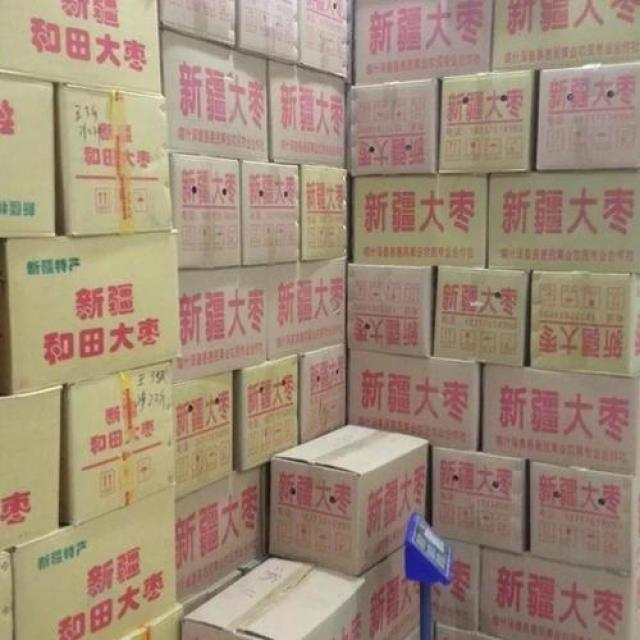box: (0, 232, 184, 397), (267, 417, 429, 575), (20, 488, 176, 639), (474, 352, 640, 476), (49, 85, 179, 242), (57, 354, 175, 526), (0, 0, 169, 97), (484, 169, 640, 274), (478, 540, 640, 640), (343, 343, 477, 460), (160, 34, 273, 170), (347, 163, 485, 274), (191, 554, 368, 640), (522, 453, 640, 575), (529, 258, 640, 386), (177, 248, 272, 385), (354, 0, 498, 89), (530, 63, 640, 175), (428, 448, 538, 560), (485, 0, 640, 74), (438, 257, 533, 371), (438, 66, 536, 174), (337, 77, 438, 181), (159, 150, 238, 270), (264, 257, 352, 363), (237, 0, 354, 78), (169, 367, 232, 505), (348, 258, 435, 354), (269, 63, 351, 164), (236, 353, 301, 475), (239, 162, 304, 273), (293, 344, 347, 444), (299, 162, 349, 269)
